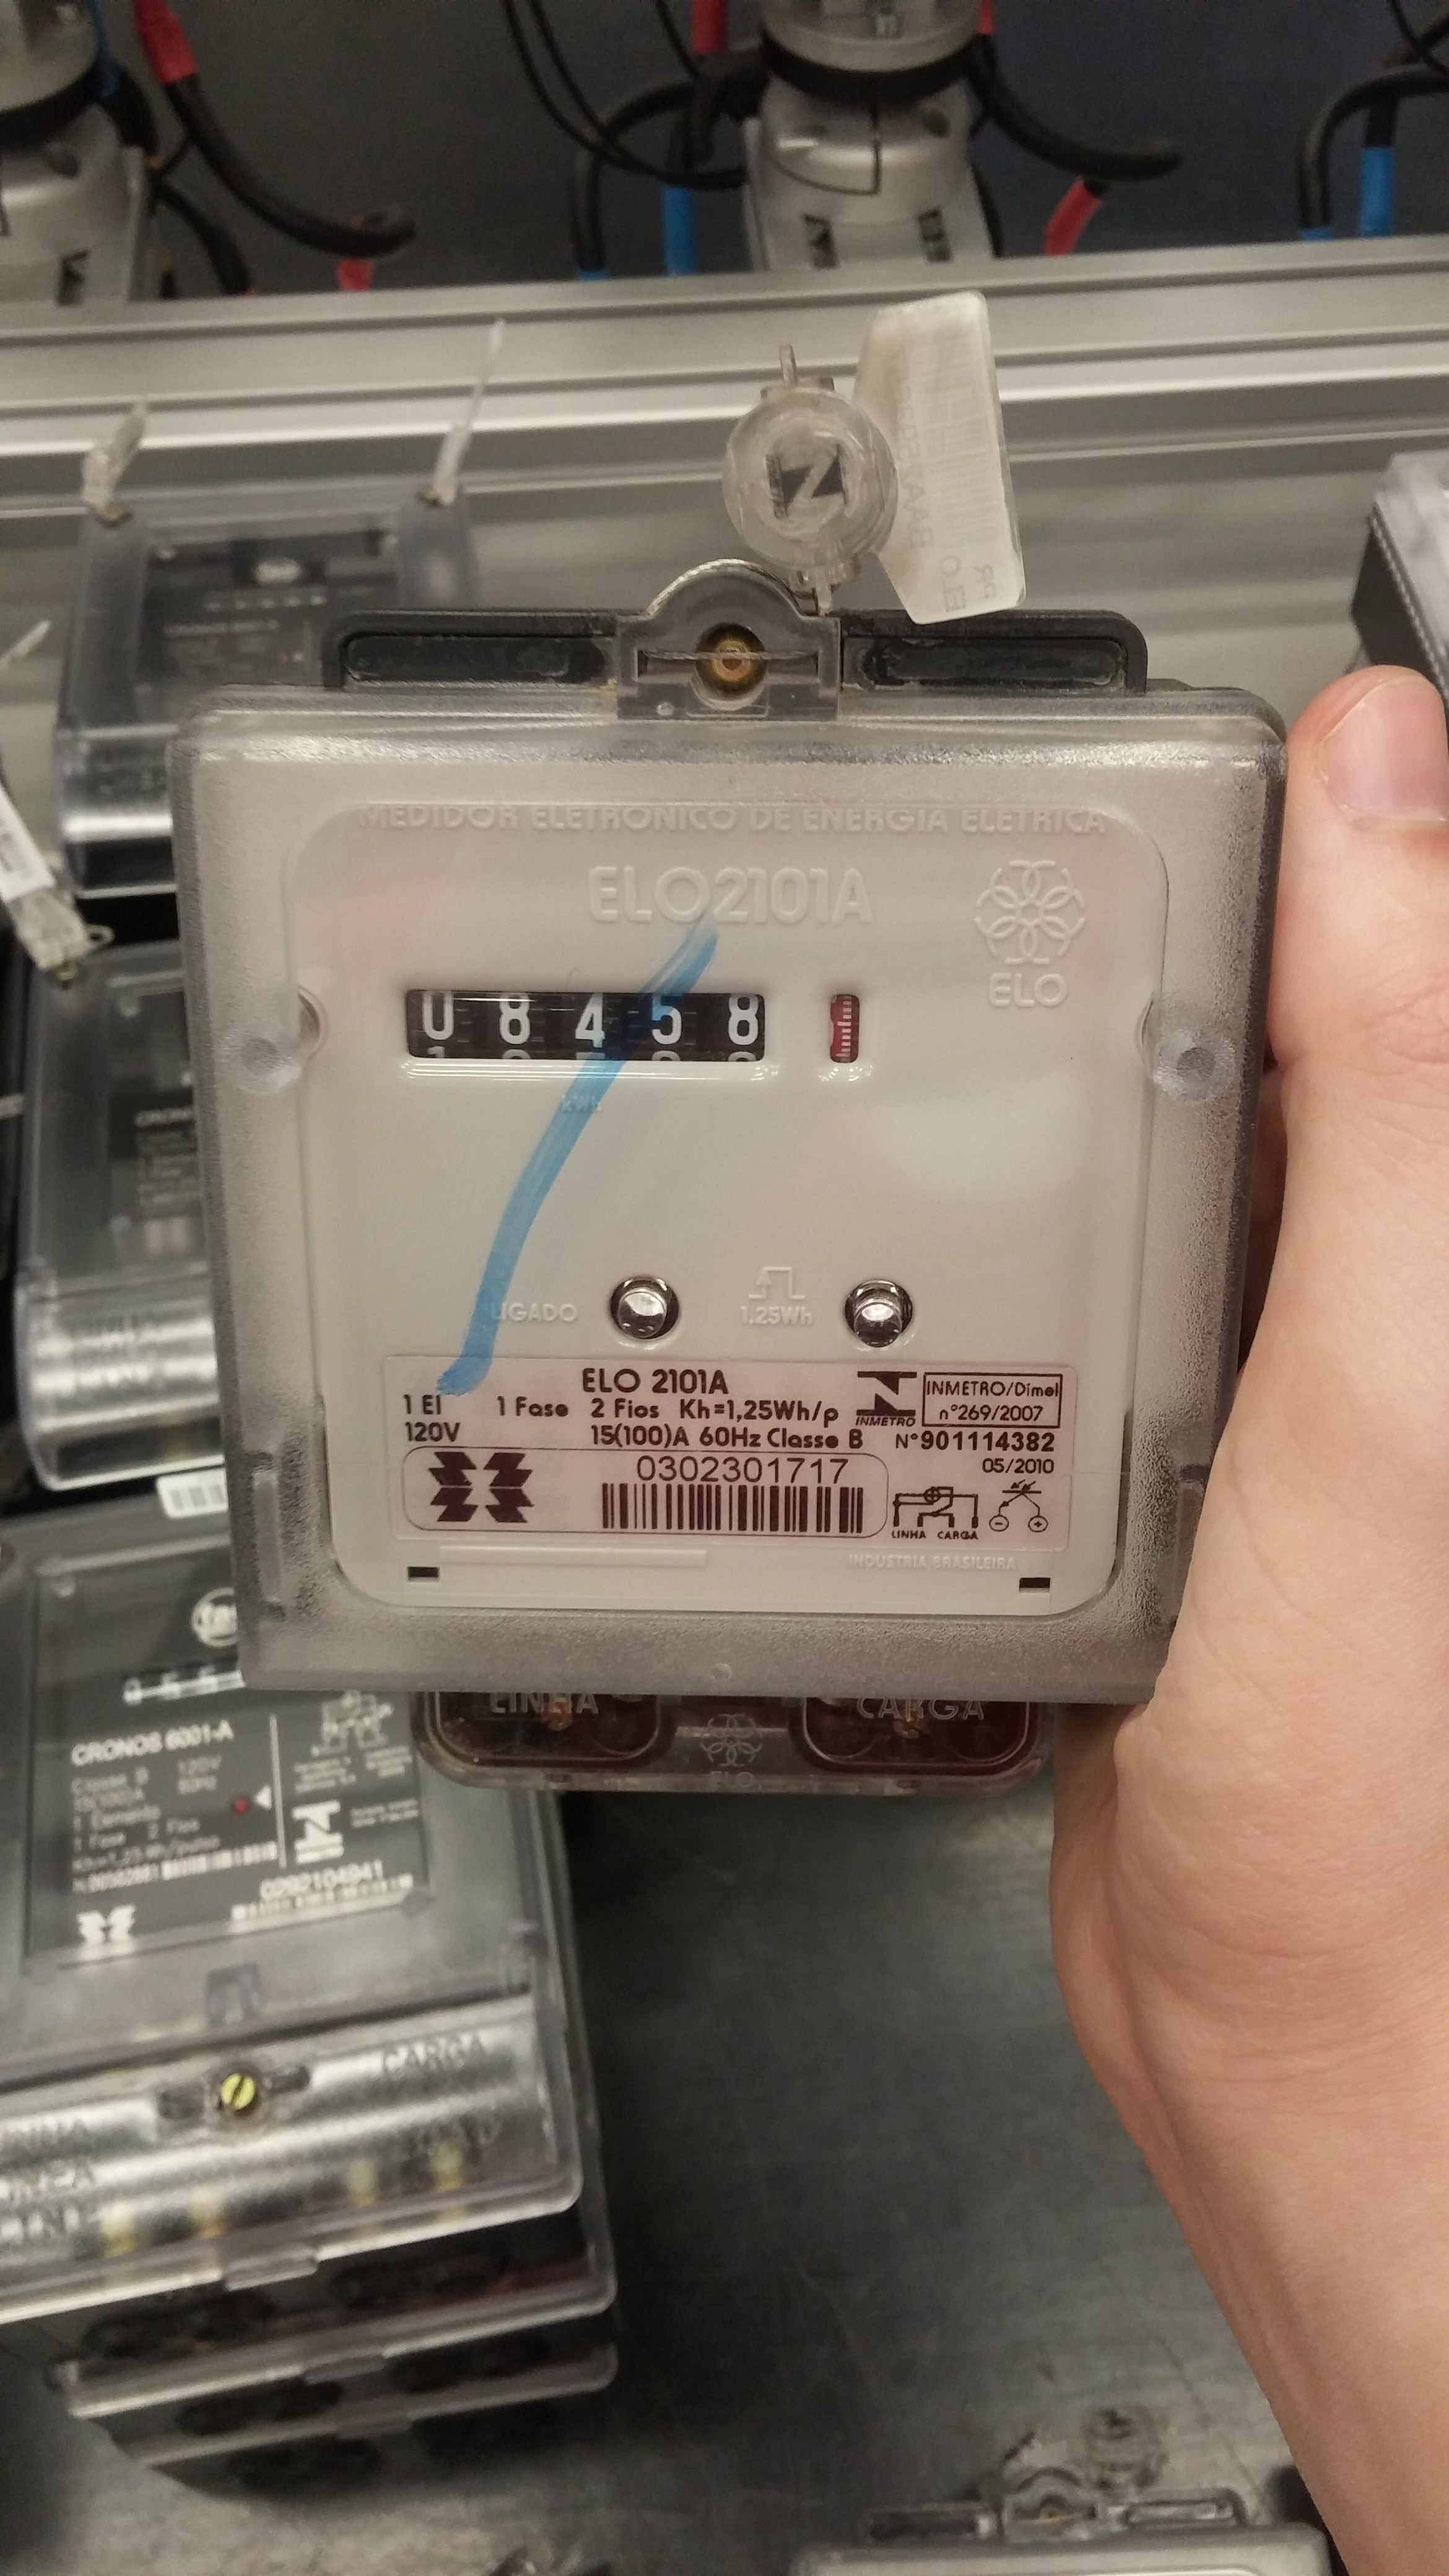counter2: (359, 971, 814, 1099)
